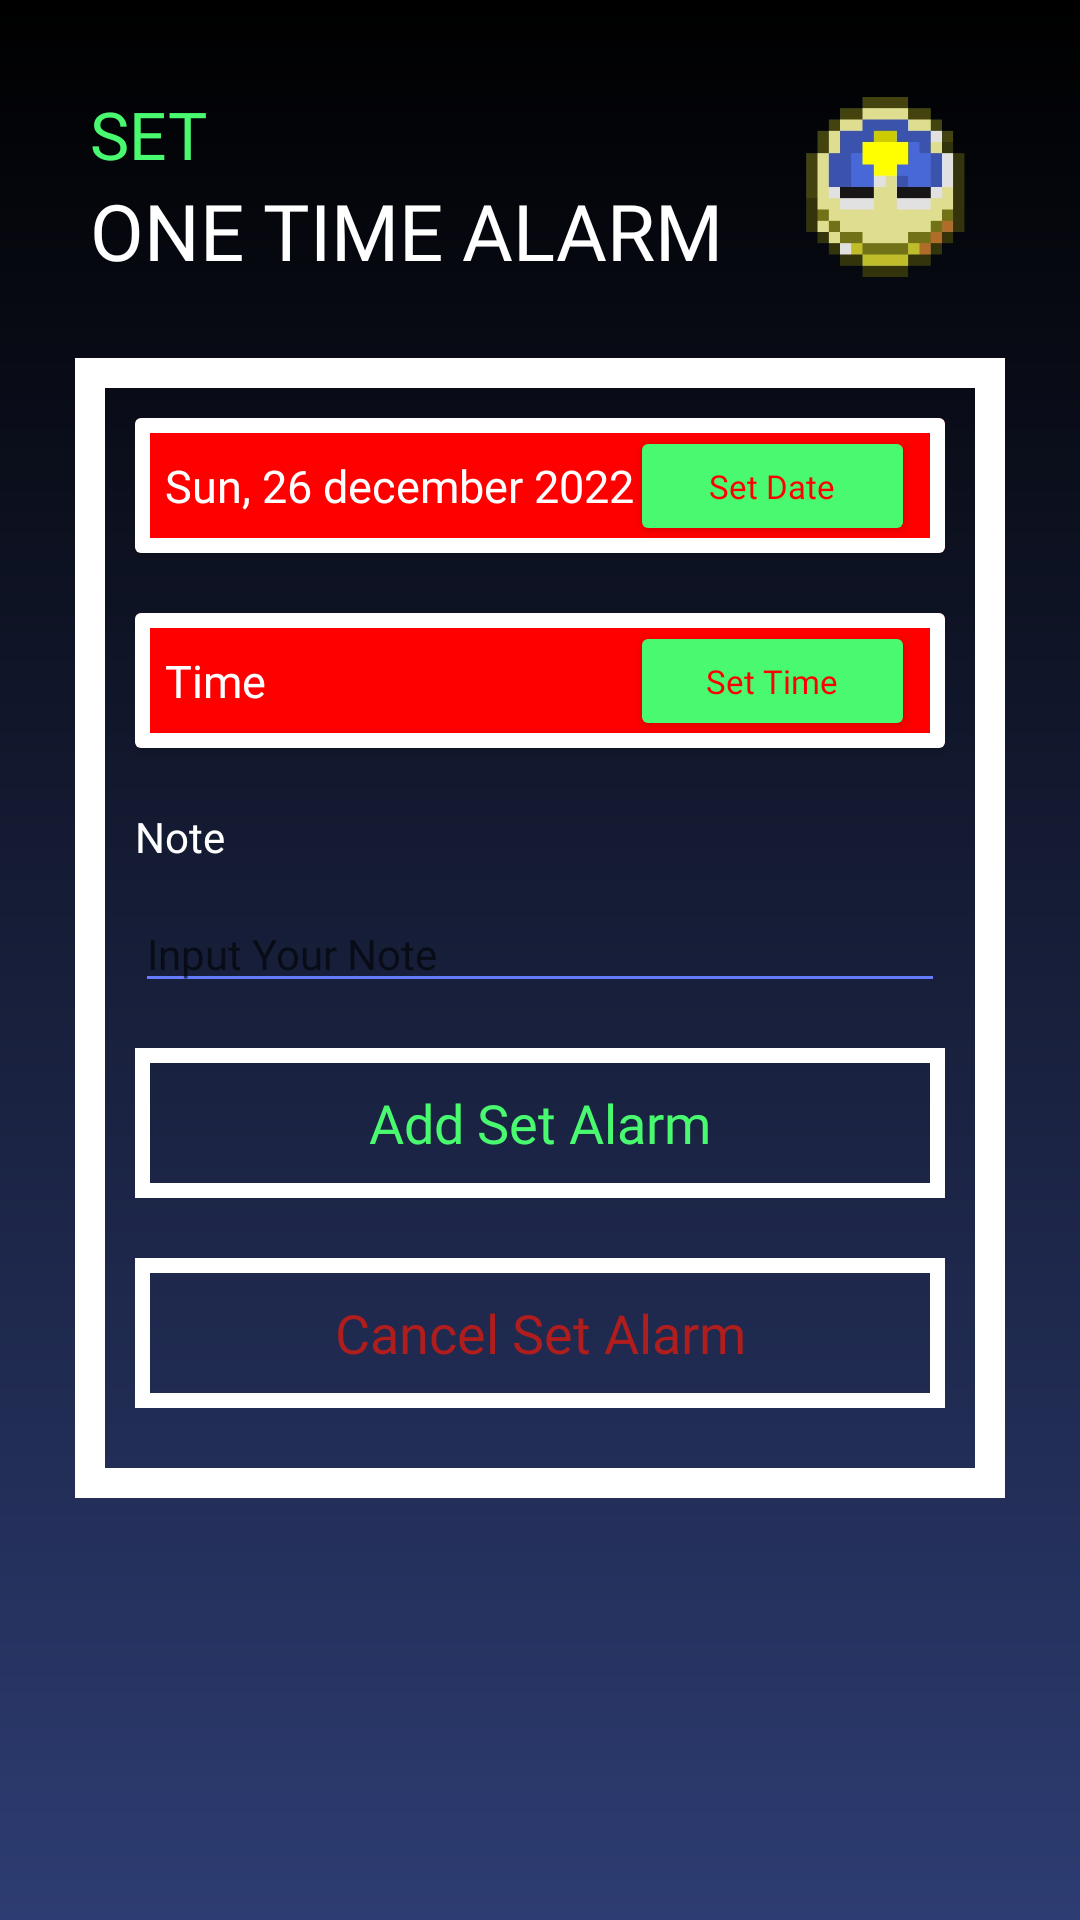

Icons on this 1080w x 1920h Android screen, each with its box as (left=x1, top=y1, right=x2, bottom=y2):
clock: (left=806, top=97, right=964, bottom=277)
